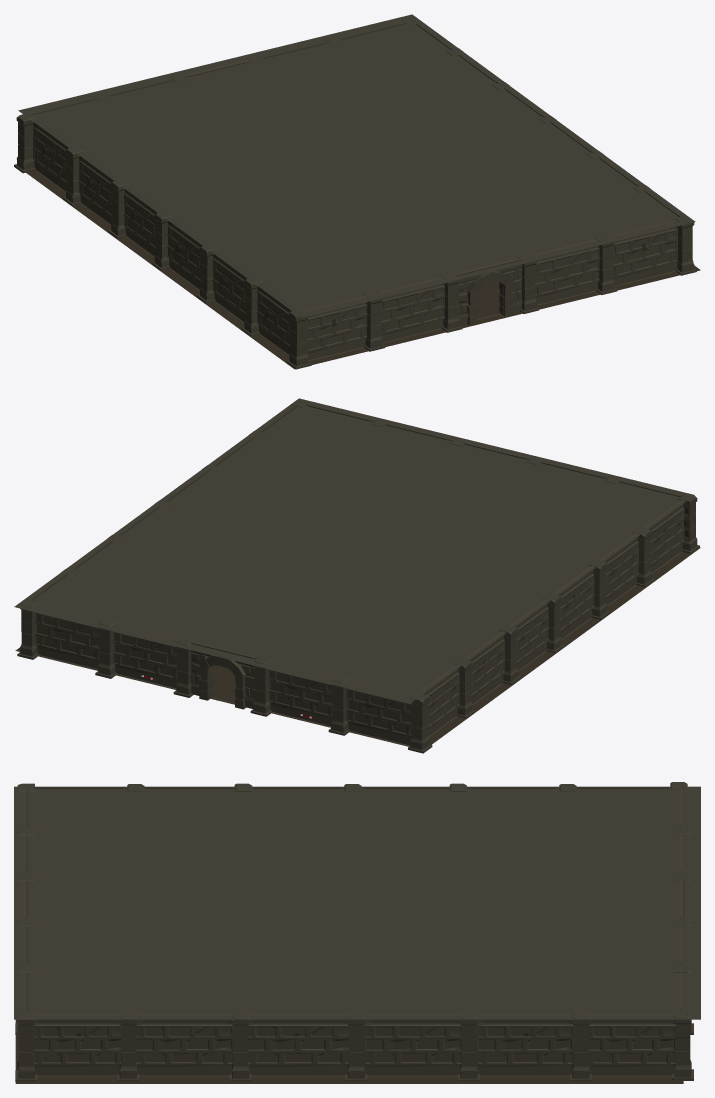
The model's file is 2komnata1lvl.fbx.
The picture shows the model from 3 angles, top to bottom: view 1: azimuth 30°, elevation 25°; view 2: azimuth 150°, elevation 25°; view 3: azimuth 270°, elevation 25°; orthographic projection. The views are drawn at different scales.
Visible parts, largest first — view 1: криша 3, Plane.093, Plane.050, Plane.049, Plane.048, Plane.047, Plane.494, Plane.041, Plane.039, Plane.044, Plane.042, Plane.045 (+13 smaller); view 2: криша 3, Plane.093, Plane.078, Plane.184, Plane.091, Plane.080, Plane.493, Plane.042, Plane.044, Plane.039, Plane.045, Plane.043 (+13 smaller); view 3: криша 3, Plane.090, Plane.082, Plane.095, Plane.081, Plane.079, Plane.096, Plane.093, Cube.075, Cube.082, Cube.074, Cube.084 (+3 smaller).
Part boxes in pixels (x1,y1,x2,y2): криша 3: (18, 14, 695, 317); Plane.093: (25, 170, 700, 369); Plane.050: (610, 220, 677, 286); Plane.049: (533, 239, 599, 305); Plane.048: (378, 277, 444, 342); Plane.047: (304, 296, 367, 360); Plane.494: (456, 259, 522, 325); Plane.041: (32, 118, 72, 192); Plane.039: (78, 151, 117, 225); Plane.044: (256, 281, 295, 355); Plane.042: (167, 216, 206, 290); Plane.045: (212, 249, 251, 322); криша 3: (14, 398, 694, 703); Plane.093: (15, 547, 700, 746); Plane.078: (346, 679, 413, 745); Plane.184: (35, 603, 101, 669); Plane.091: (113, 622, 180, 688); Plane.080: (268, 660, 335, 726); Plane.493: (190, 642, 257, 709); Plane.042: (554, 566, 594, 639); Plane.044: (644, 500, 684, 573); Plane.039: (464, 631, 504, 705); Plane.045: (600, 533, 638, 606); Plane.043: (510, 599, 548, 671); криша 3: (14, 786, 700, 1019); Plane.090: (244, 1014, 351, 1076); Plane.082: (363, 1014, 462, 1076); Plane.095: (134, 1014, 233, 1076); Plane.081: (476, 1014, 573, 1076); Plane.079: (583, 1014, 676, 1076); Plane.096: (31, 1014, 124, 1076); Plane.093: (15, 1019, 683, 1083); Cube.075: (570, 1011, 591, 1081); Cube.082: (458, 1011, 479, 1081); Cube.074: (15, 1011, 37, 1081); Cube.084: (672, 1011, 693, 1080).
Bounding box in the file's own units: 6574 × 807 × 7901.
